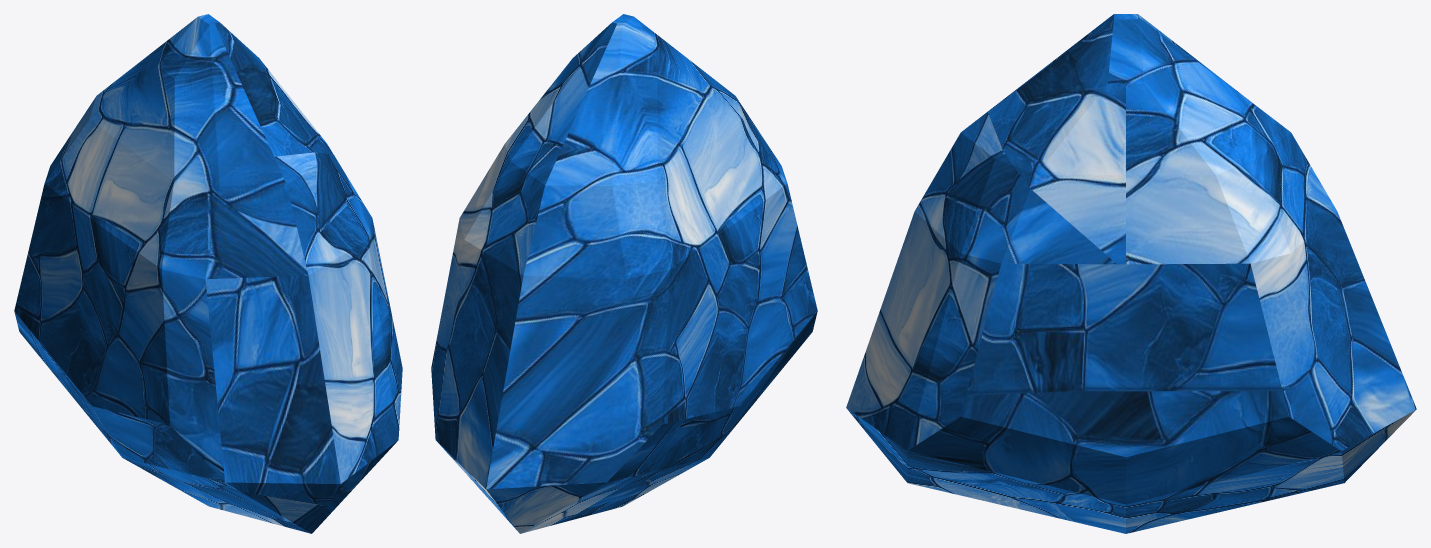
File: gemstone5BlueCompressed.glb
3 renders of one model, left to right at view 1: azimuth 30°, elevation 25°; view 2: azimuth 150°, elevation 25°; view 3: azimuth 270°, elevation 25°, orthographic. The views are drawn at different scales.
Visible parts, largest first — view 1: gemstone4; view 2: gemstone4; view 3: gemstone4.
Boxes of the visible parts, x1,y1,x2,y2 form: gemstone4: (14,14,402,533); gemstone4: (431,14,817,533); gemstone4: (846,14,1416,533).
Bounding box in the file's own units: 0.5 × 1 × 1.
Materials: 1 (1 with a texture image).
